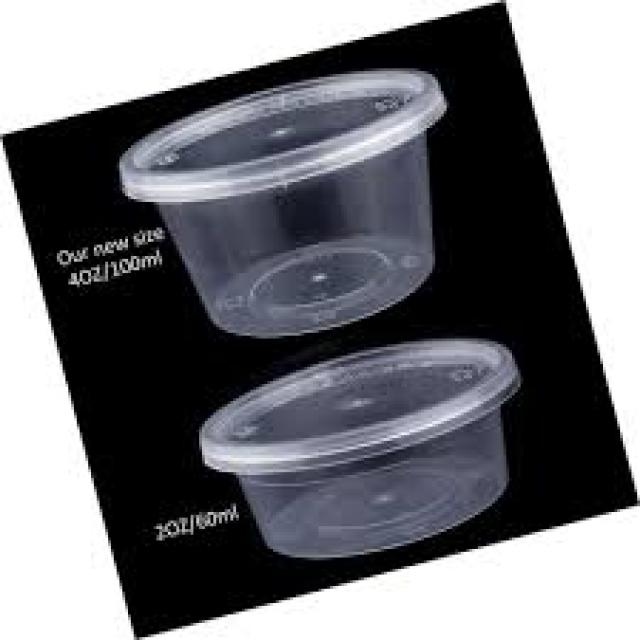disposable: (140, 60, 475, 357), (204, 324, 532, 580)
